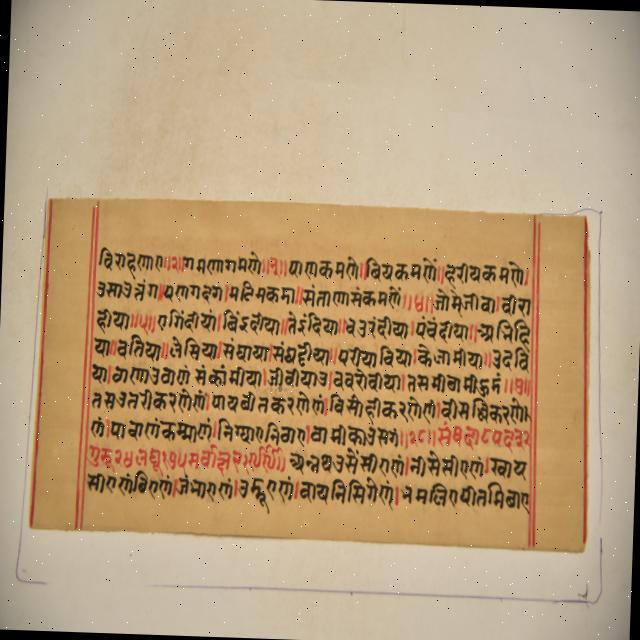text_paragraph: (27, 195, 585, 550)
